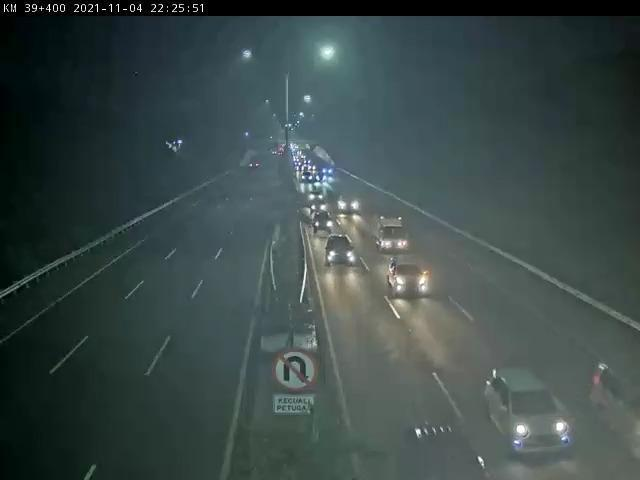car: (483, 366, 576, 450), (389, 254, 430, 297), (323, 234, 352, 266), (337, 192, 362, 215), (312, 210, 334, 233)
truck: (374, 215, 408, 255)
